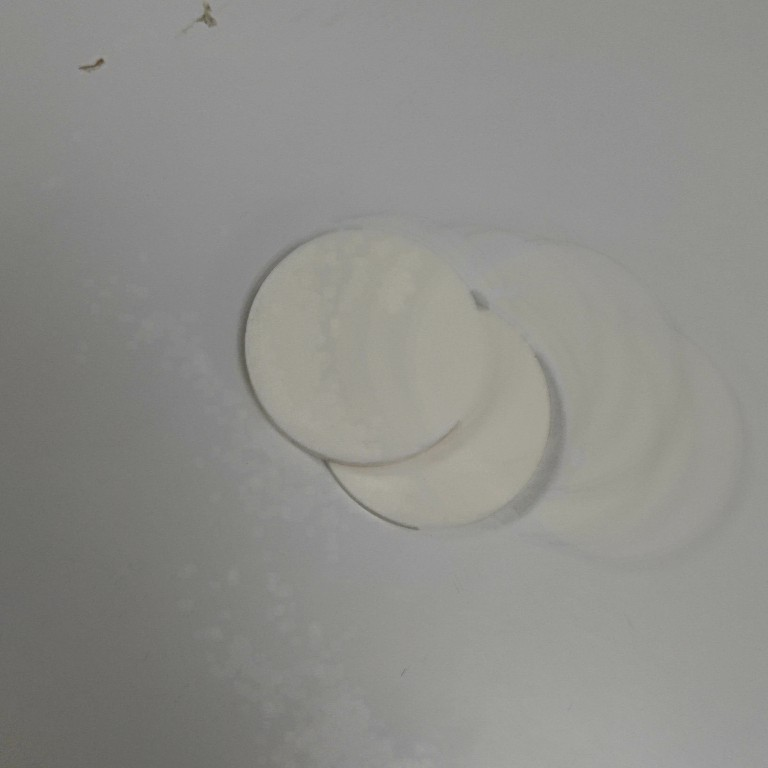ceramics: (234, 220, 566, 546)
